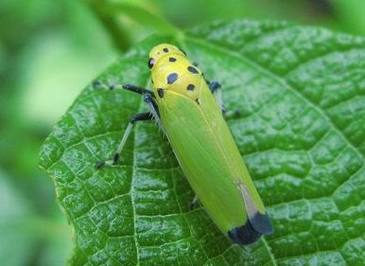Cicadellidae: (95, 42, 274, 244)
